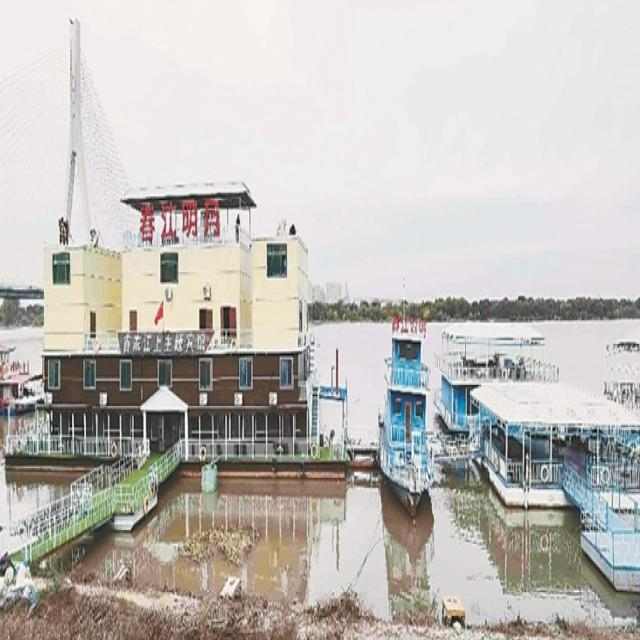fishing boat: (369, 292, 432, 506)
